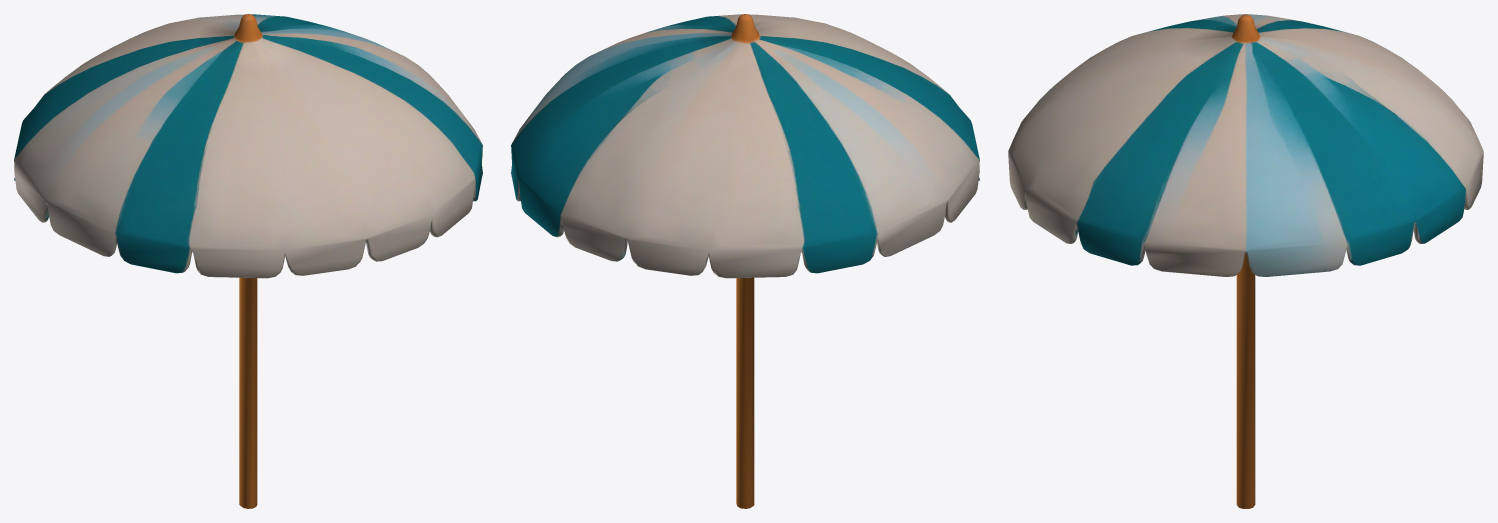
File: a_beach_umbrella_e6d4f903_v2.glb
3 renders of one model, left to right at view 1: azimuth 30°, elevation 25°; view 2: azimuth 150°, elevation 25°; view 3: azimuth 270°, elevation 25°, orthographic.
Visible parts, largest first — view 1: material; view 2: material; view 3: material.
Part boxes in pixels (bbox=[...]): material: bbox=[14, 14, 482, 508]; material: bbox=[511, 14, 979, 508]; material: bbox=[1008, 14, 1483, 508].
Bounding box in the file's own units: 1.64 × 1.9 × 1.67.
Materials: 1 (1 with a texture image).
